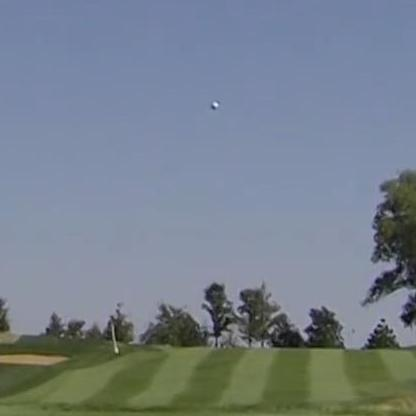golfball: (207, 100, 216, 109)
